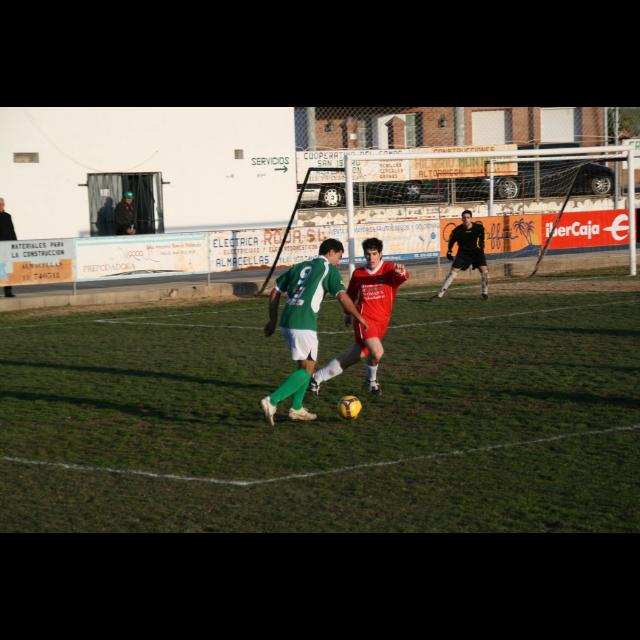Football: (336, 398, 362, 418)
